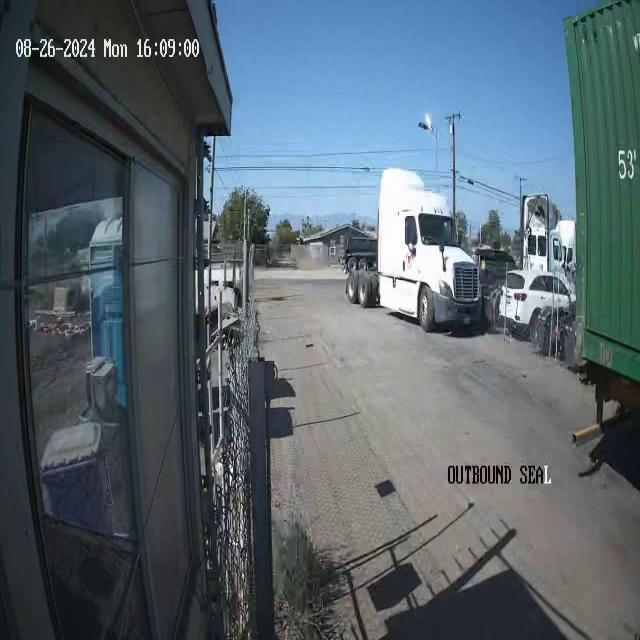TRUCK_IN: (566, 0, 640, 489), (340, 161, 480, 334)
